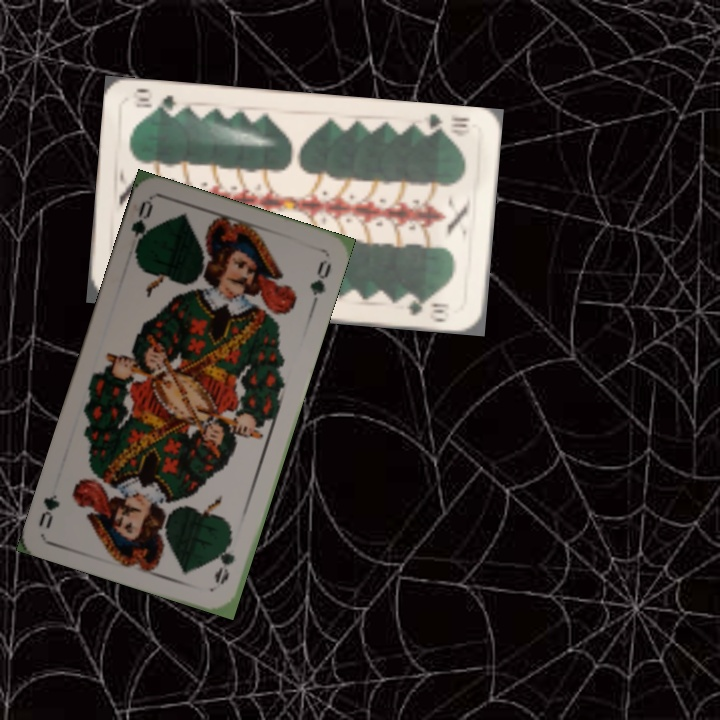G10: (416, 110, 473, 139)
GO: (126, 197, 156, 257), (210, 530, 237, 587)
